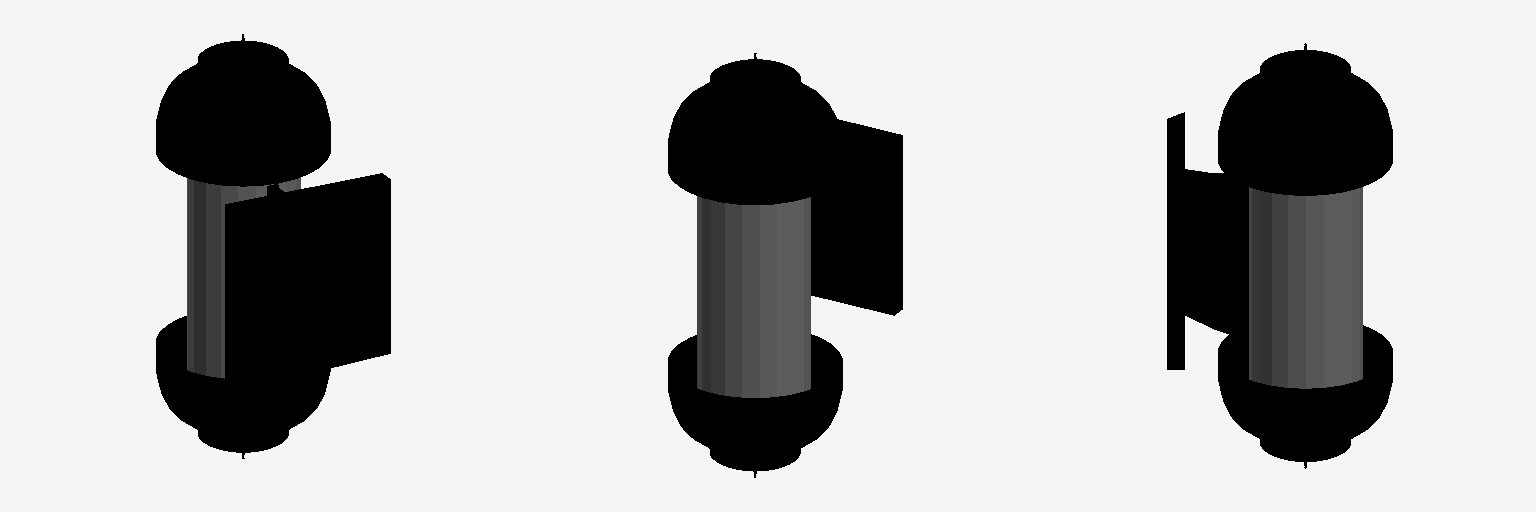
Rendered from lamp_texture.obj.
3 views of the same model, side by side, from view 1: azimuth 30°, elevation 25°; view 2: azimuth 150°, elevation 25°; view 3: azimuth 270°, elevation 25° (orthographic).
Parts seen in each view (by area): view 1: lamp:pCylinder1, lamp:pCylinder2; view 2: lamp:pCylinder1, lamp:pCylinder2; view 3: lamp:pCylinder1, lamp:pCylinder2.
Boxes of the visible parts, x1=… form: lamp:pCylinder1: x1=156, y1=34, x2=390, y2=458; lamp:pCylinder2: x1=187, y1=177, x2=300, y2=378; lamp:pCylinder1: x1=668, y1=53, x2=902, y2=477; lamp:pCylinder2: x1=697, y1=196, x2=810, y2=397; lamp:pCylinder1: x1=1167, y1=43, x2=1392, y2=468; lamp:pCylinder2: x1=1249, y1=187, x2=1362, y2=388.
Size of the model in its own units: 16.1 by 41.5 by 20.08.